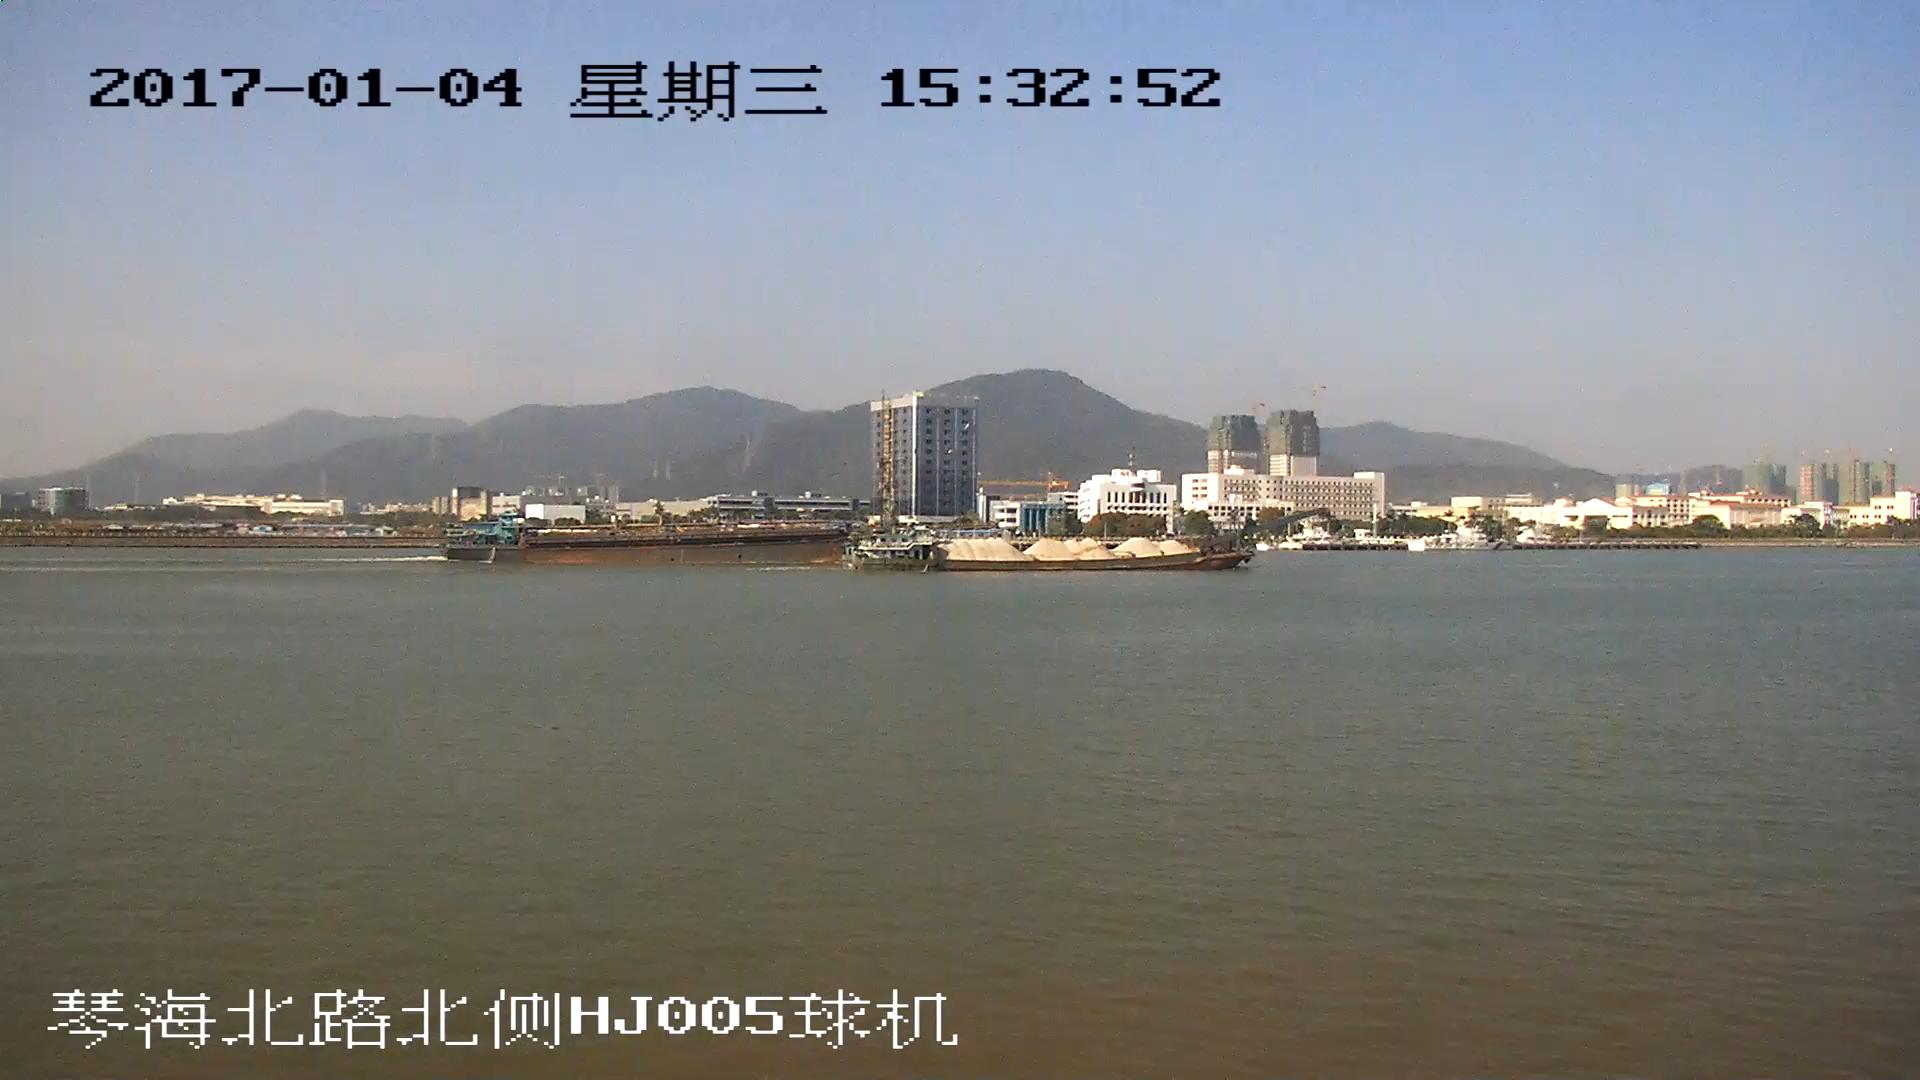bulk cargo carrier: (445, 515, 843, 565)
ore carrier: (851, 505, 1320, 568)
